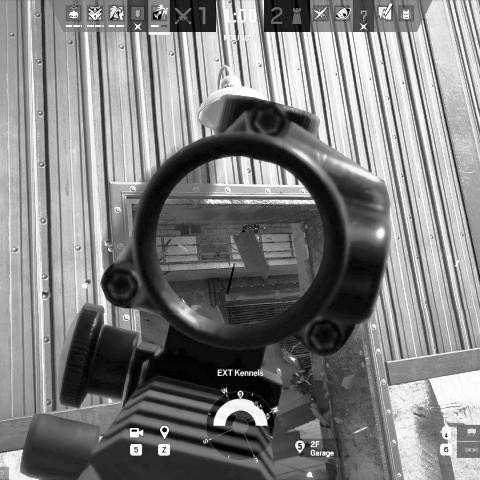Character: (240, 224, 262, 233)
